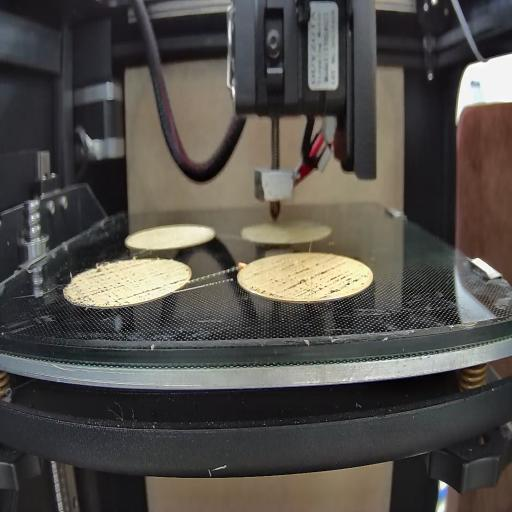under_extrusion: (247, 260, 367, 298), (73, 263, 166, 305), (170, 273, 188, 288)
